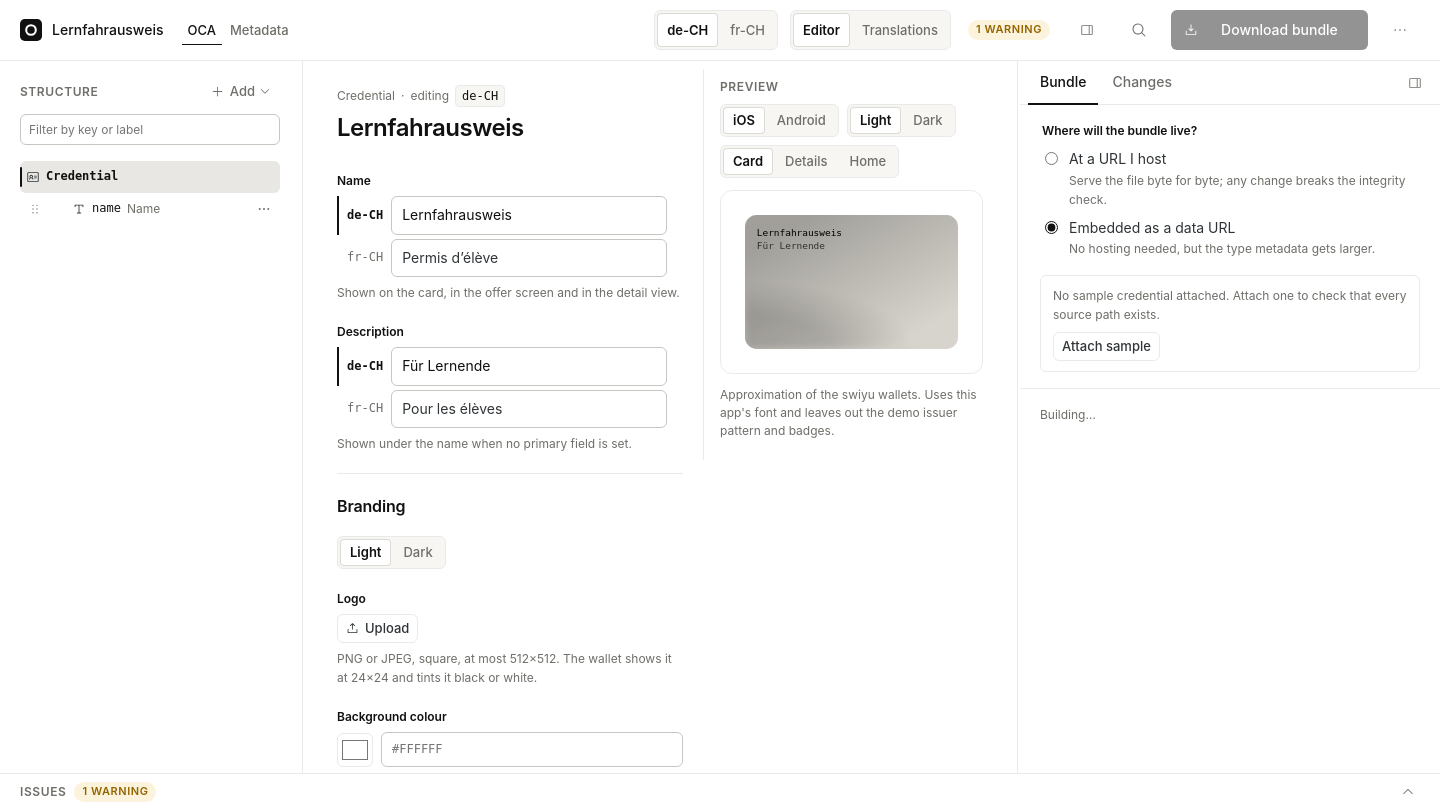
Test: OCA / Metadata switch › opens on the OCA and switches to the Metadata page, which hides Editor and Translations
The image size is (1452, 810).
Expected: the element named "View" is shown, [790, 10, 951, 50]
Click the tab "Metadata" at (259, 30), box [224, 16, 295, 45]
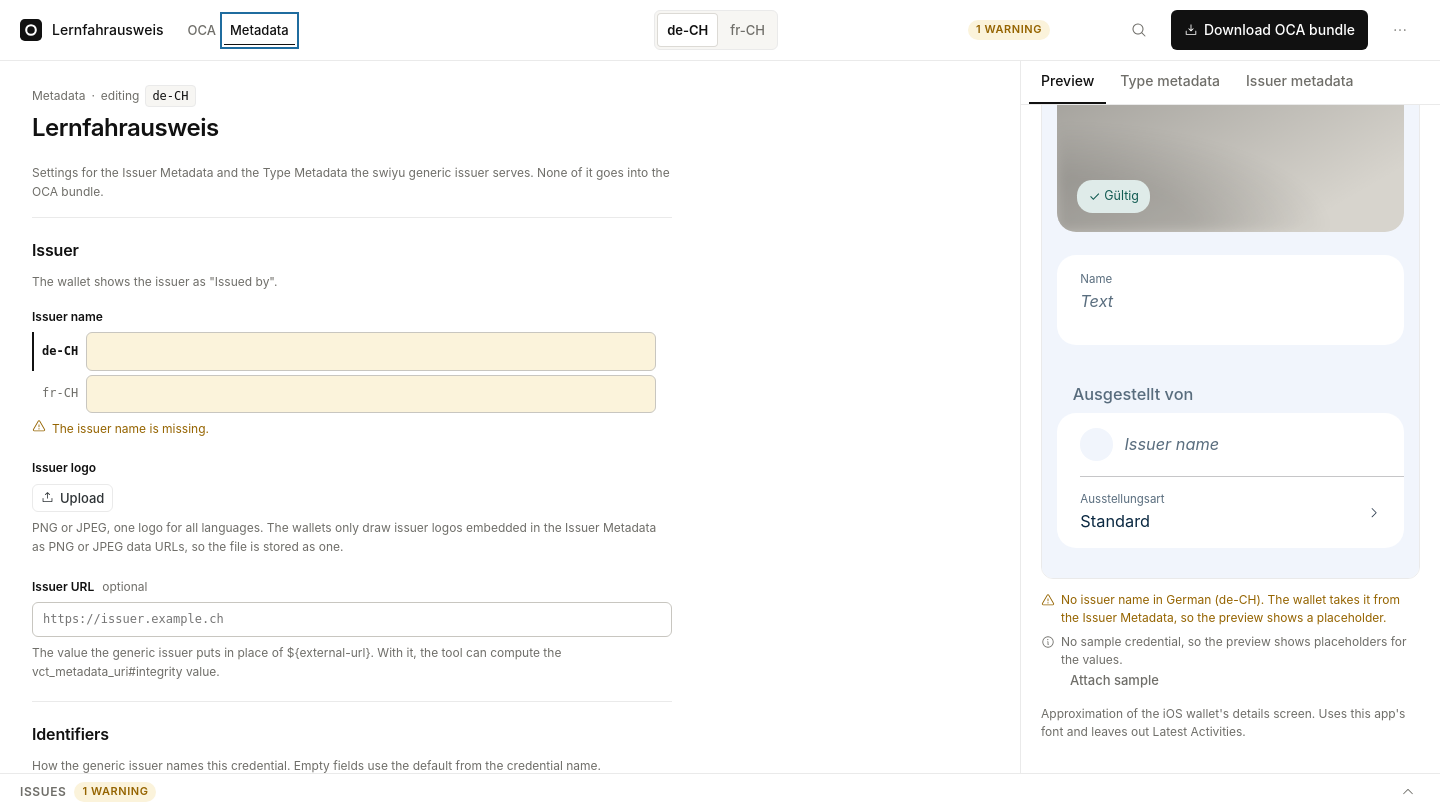
Expected: the element "Issues" is shown, [0, 773, 1440, 809]
Expected: the element "Metadata" is shown
Expected: the text "Structure" is gone
Click the tab "OCA" at (202, 30), box [182, 16, 222, 45]
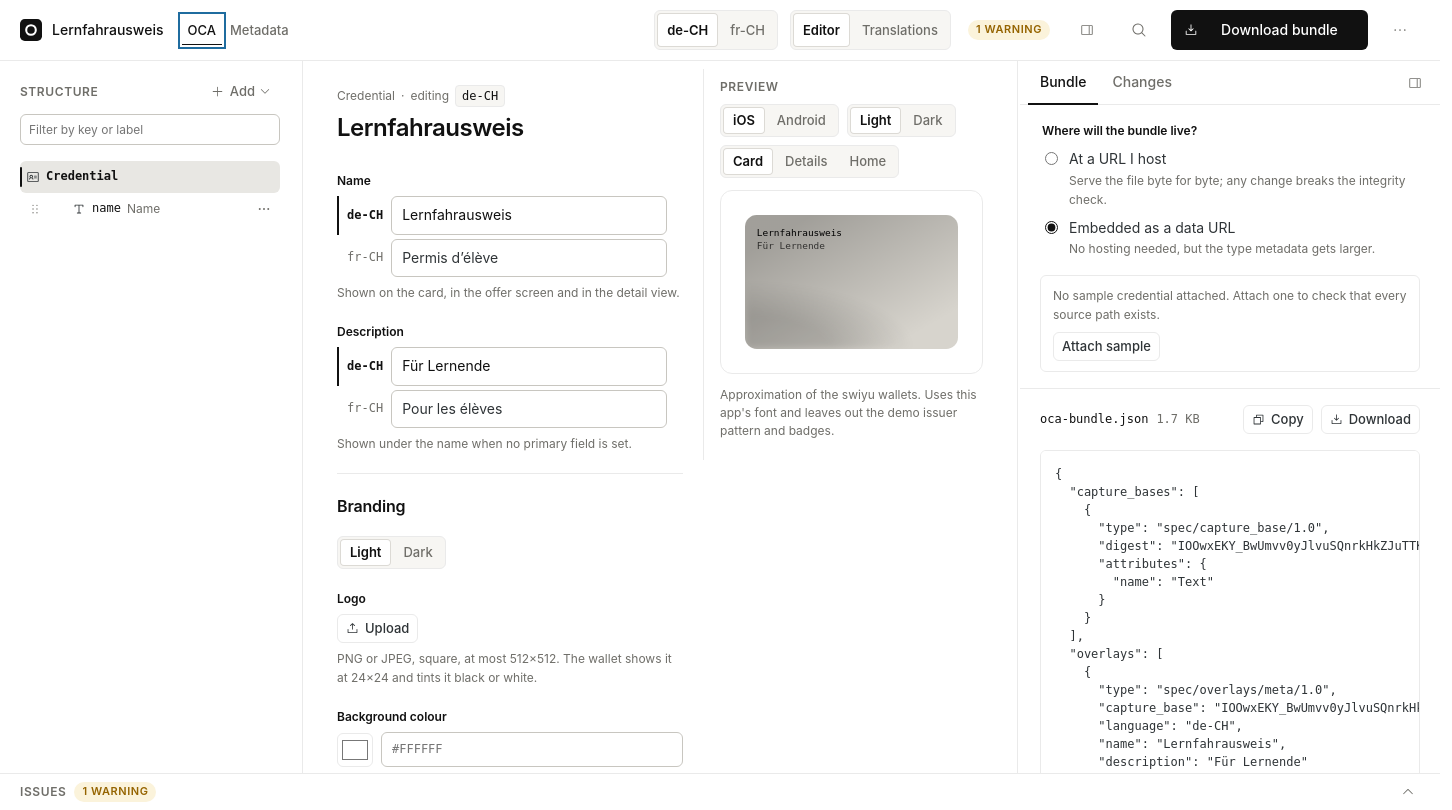
Expected: the element named "View" is shown, [790, 10, 951, 50]
